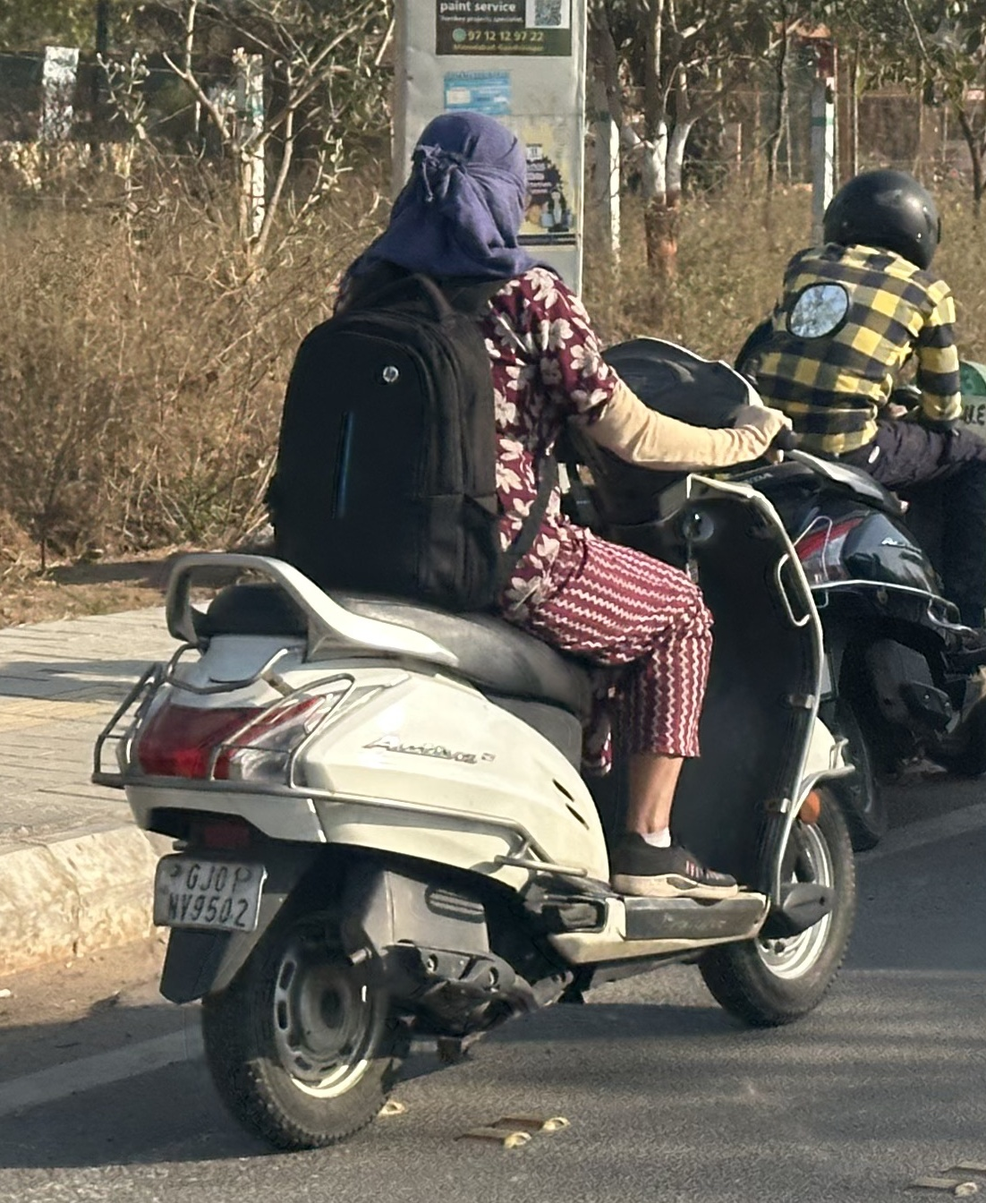BikeWithRider: (82, 103, 889, 1155), (731, 166, 986, 854)
Helmet: (810, 164, 947, 269)
NoHelmet: (387, 105, 540, 265)
